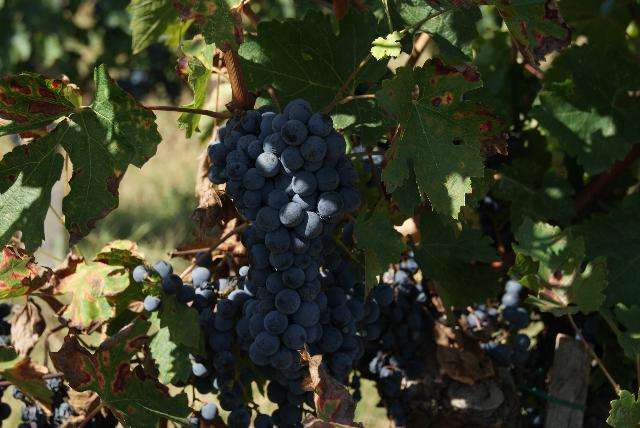grapes: (209, 100, 361, 370)
